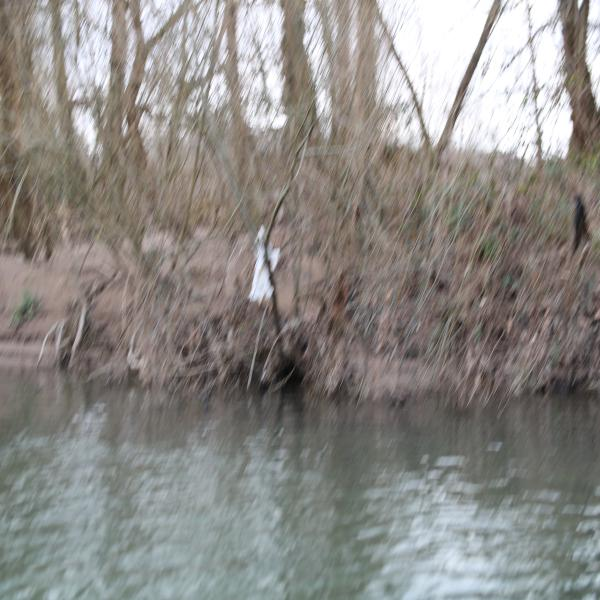fragments: (248, 225, 279, 306)
